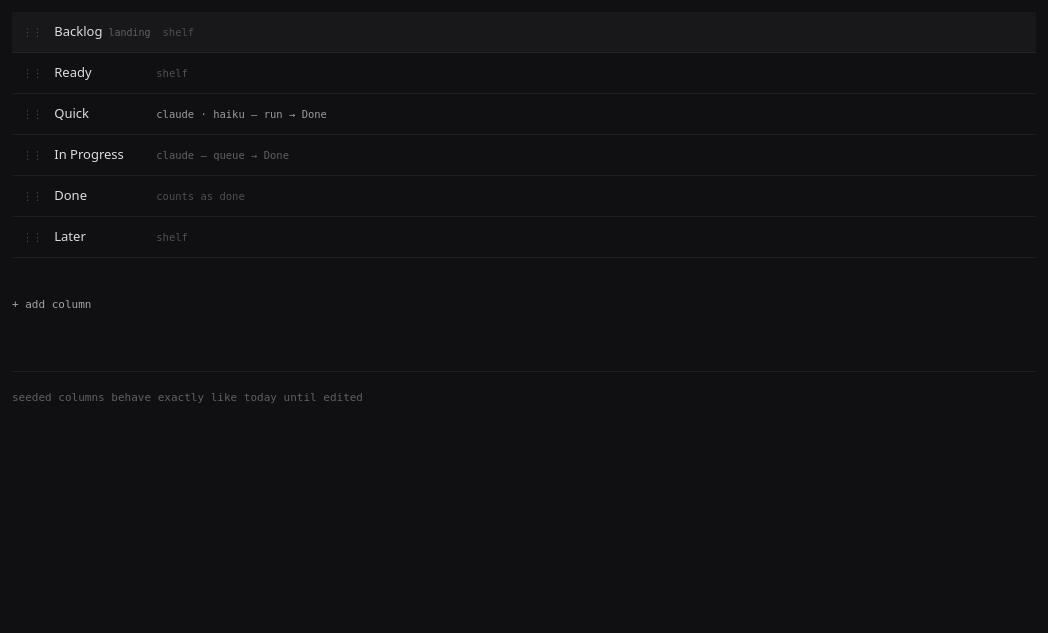
Test: field patches › does not patch when the prompt editor closes unchanged
The image size is (1048, 633).
Expected: the text "Backlog" is shown, [54,22,102,40]
Step 1. Click the button with class "fc-col-row" showing "⋮⋮ Ready shelf" → (73, 72), box [14,53,1036,93]
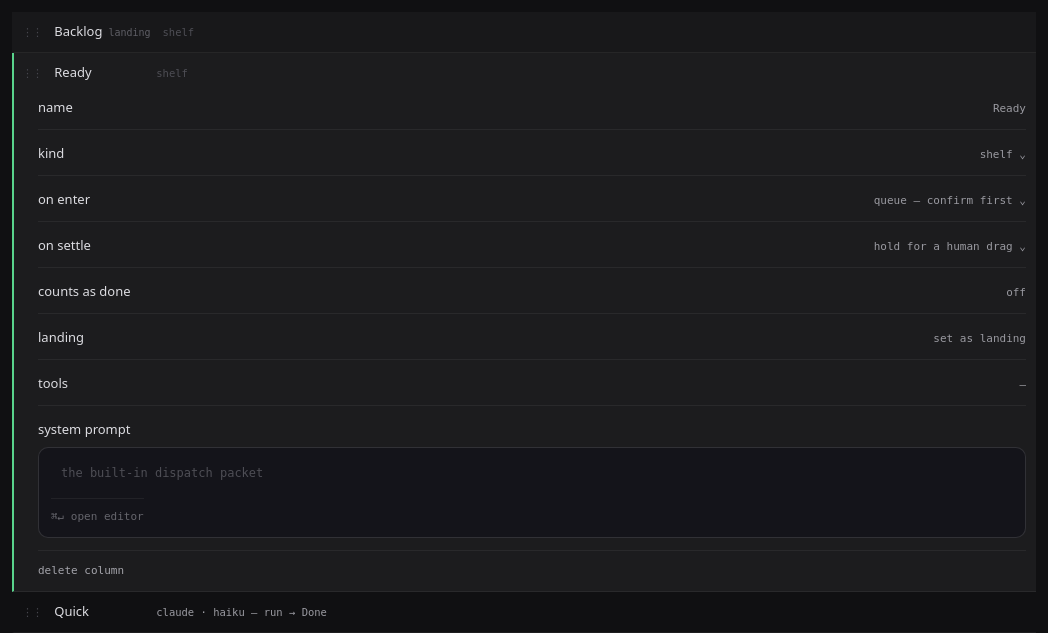
Step 2. Click the button with class "fc-col-prompt" → (162, 473), box [38,447,1026,538]
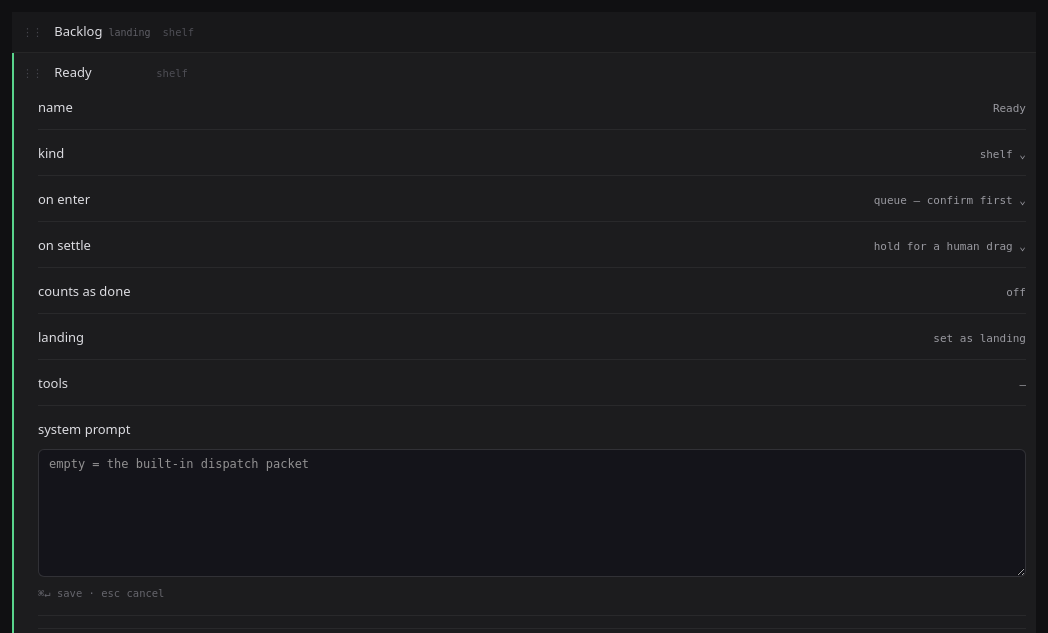
Step 3. Leave the text box with placeholder "empty = the built-in dispatch packet", box [38,449,1026,577]
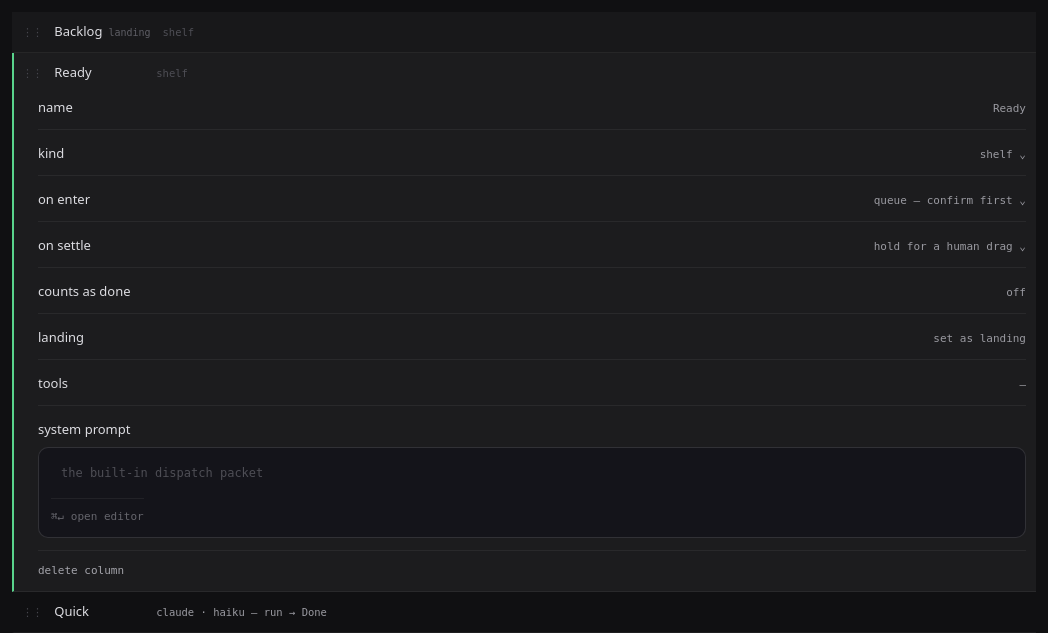
Expected: the text box is gone
